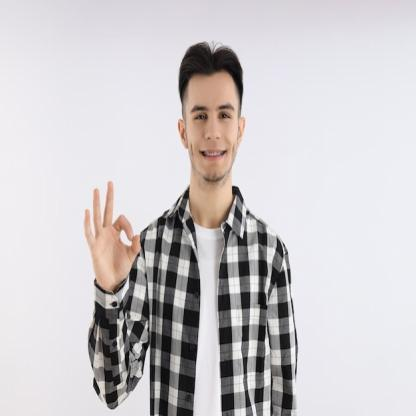ok: (81, 178, 144, 292)
